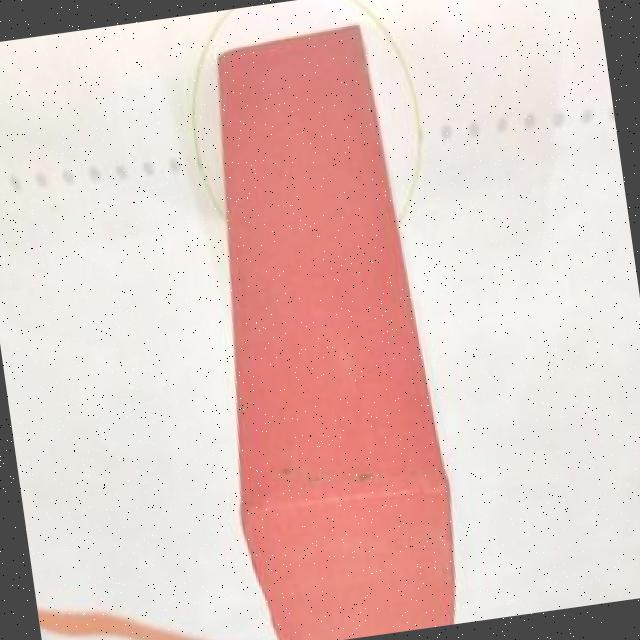redbox: (173, 19, 470, 640)
